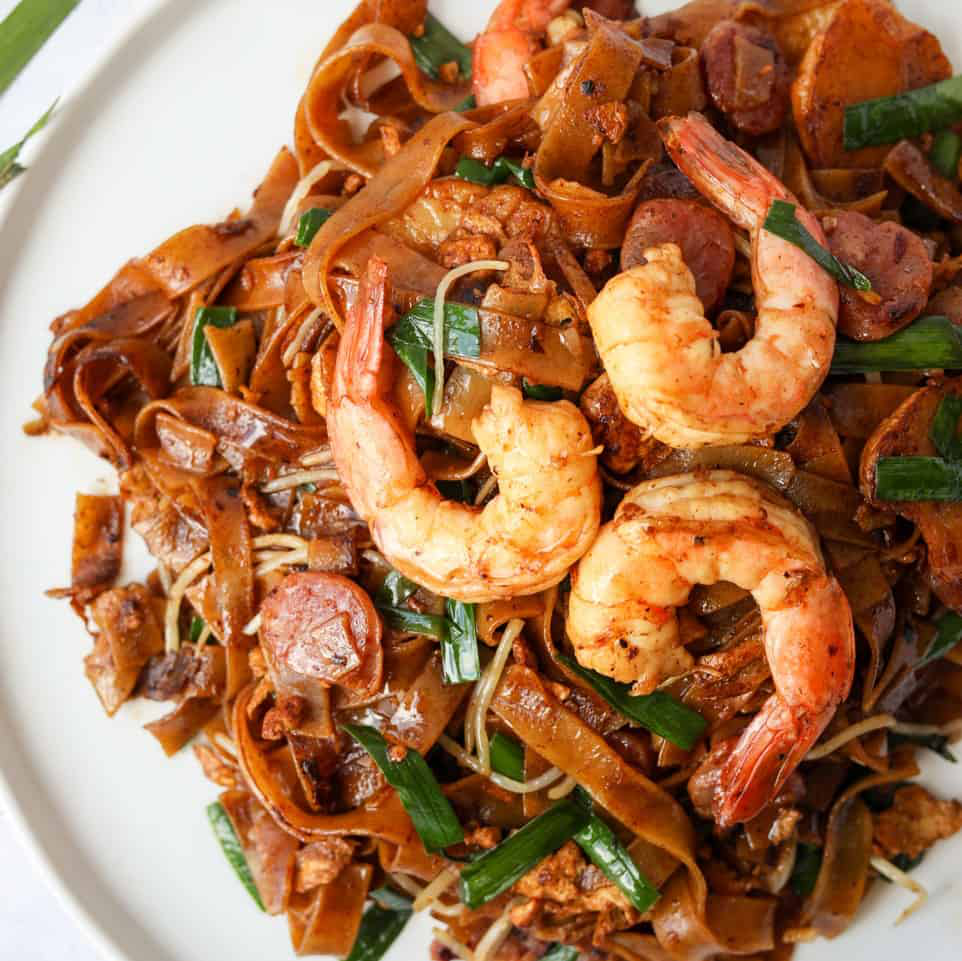Char Kway Teow: (78, 11, 961, 917)
